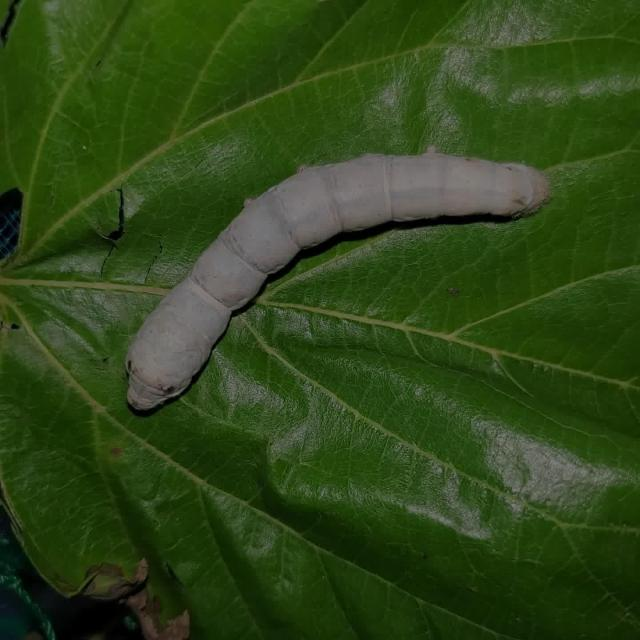Healthy: (111, 134, 559, 419)
